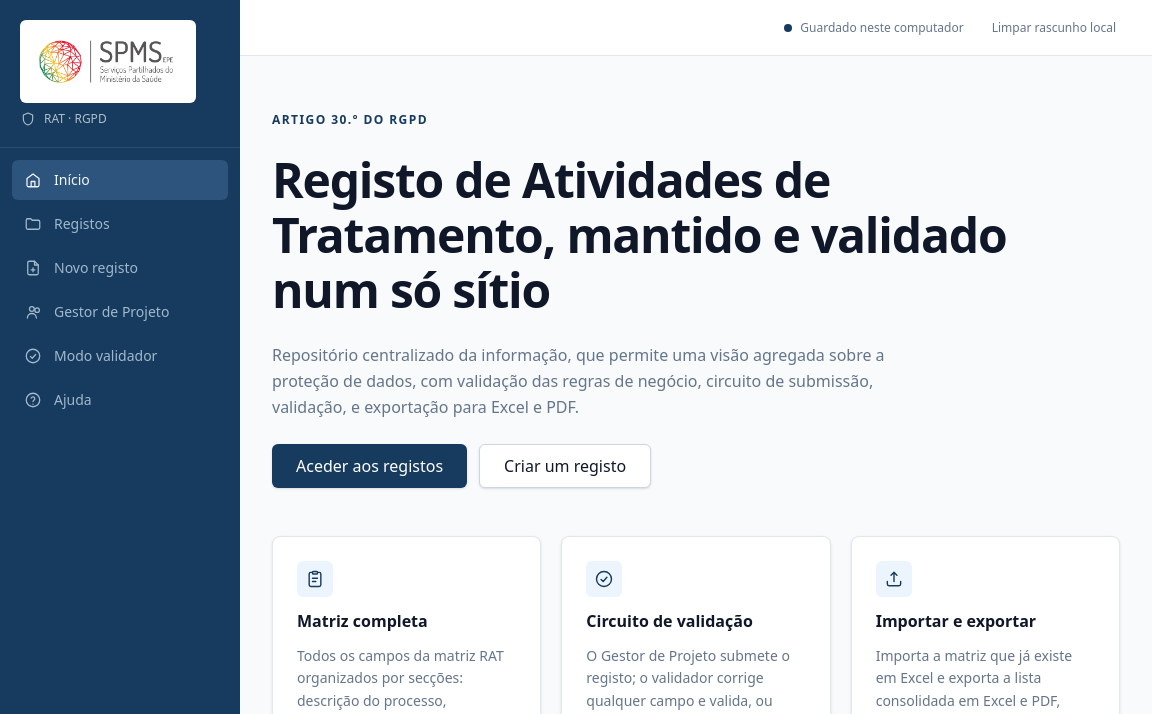
Test: página inicial › leva à lista de registos
What coordinates should you click on to do the following:
click the button "Aceder aos registos"
I would click on:
 (370, 466)
Its box is [272,444,467,488].
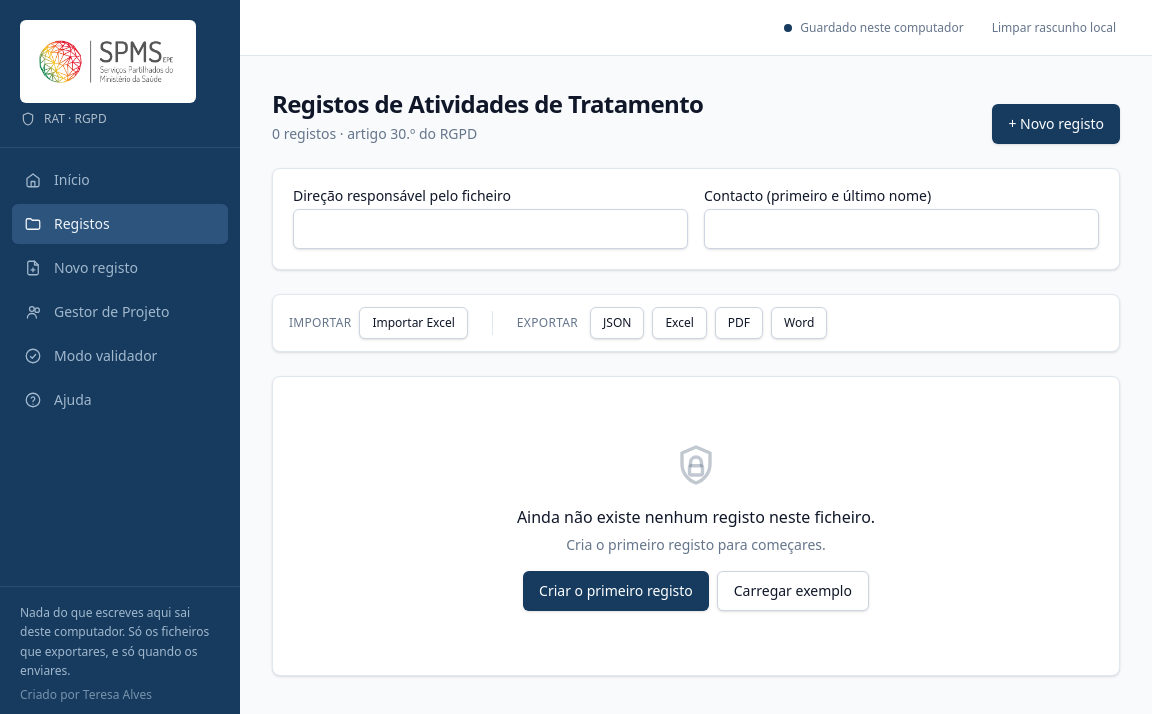
Check: the heading "Registos de Atividades de Tratamento" is shown, box [272,88,703,120]
